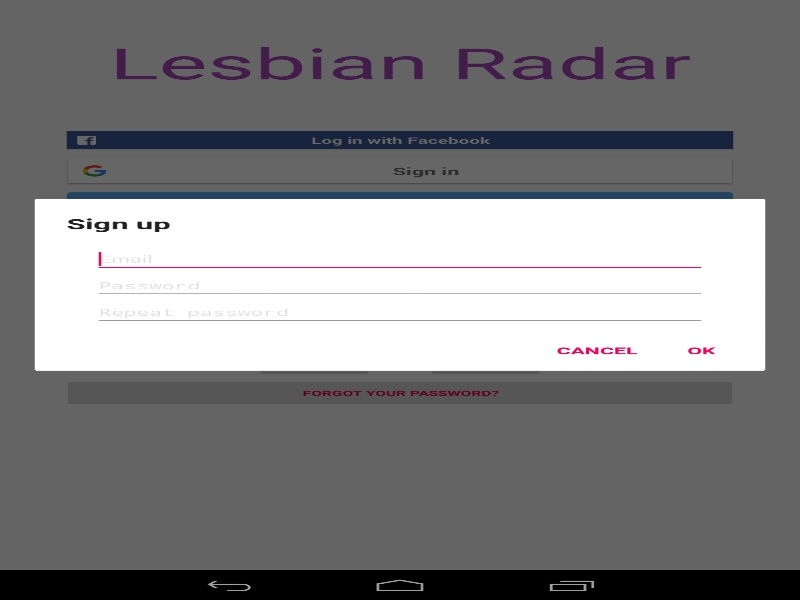Input: (93, 245, 706, 272), (93, 272, 706, 299), (93, 299, 706, 325)
